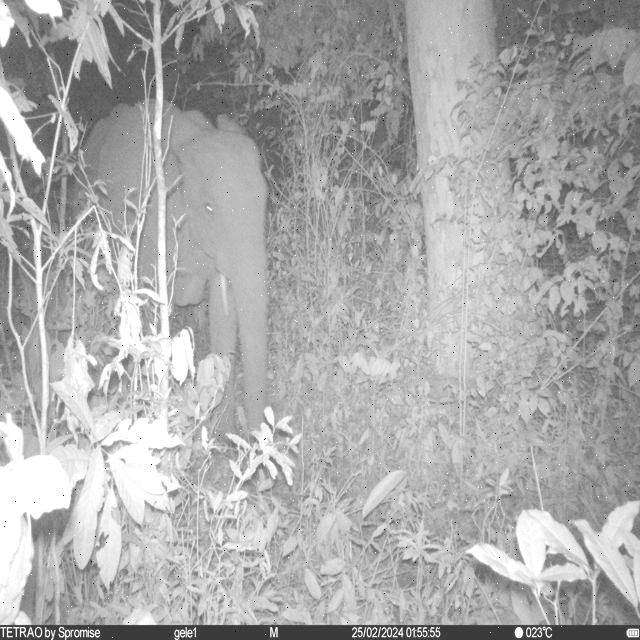elephant: (84, 100, 271, 428)
tusk: (217, 272, 231, 320)
